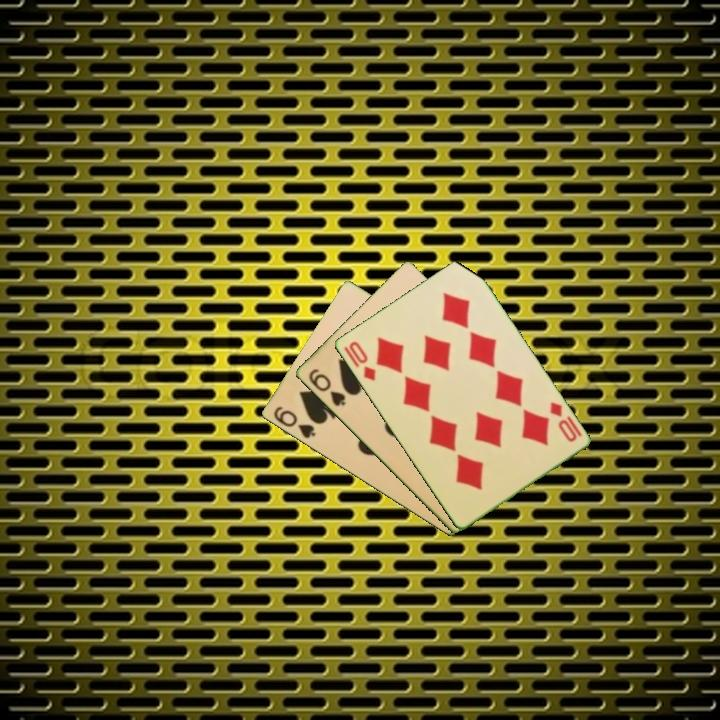10d: (340, 337, 378, 384), (546, 398, 579, 445)
6s: (304, 365, 348, 409), (269, 403, 318, 442)
